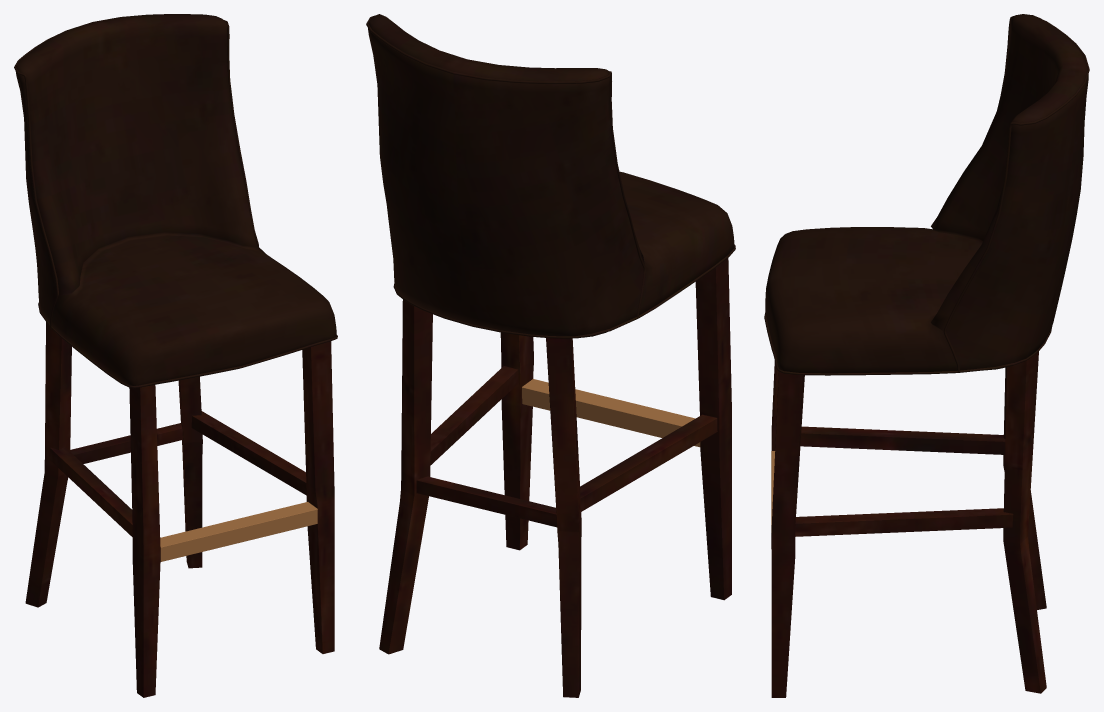
File: bar-stool-wood.glb
The picture shows the model from 3 angles, left to right: view 1: azimuth 30°, elevation 25°; view 2: azimuth 150°, elevation 25°; view 3: azimuth 270°, elevation 25°; orthographic projection. The views are drawn at different scales.
Parts seen in each view (by area): view 1: Object_2, Object_3, Object_4; view 2: Object_2, Object_3, Object_4; view 3: Object_2, Object_3.
Part boxes in pixels (left/top/right/bottom): Object_2: left=14, top=14, right=337, bottom=388; Object_3: left=25, top=322, right=334, bottom=697; Object_4: left=160, top=502, right=317, bottom=561; Object_2: left=366, top=14, right=735, bottom=338; Object_3: left=379, top=258, right=731, bottom=697; Object_4: left=522, top=379, right=700, bottom=447; Object_2: left=764, top=14, right=1089, bottom=375; Object_3: left=771, top=351, right=1046, bottom=697.
Bounding box in the file's own units: 0.427 × 1.05 × 0.531.
Materials: 3 (2 with a texture image).
